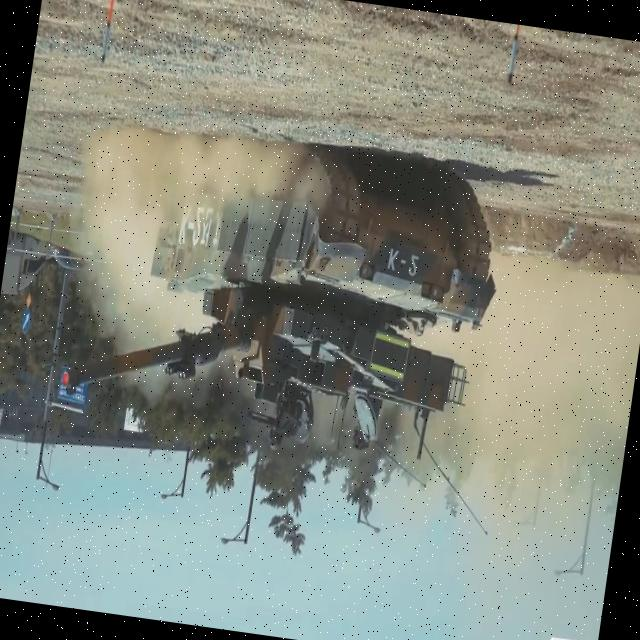korea tank: (55, 120, 512, 480)
